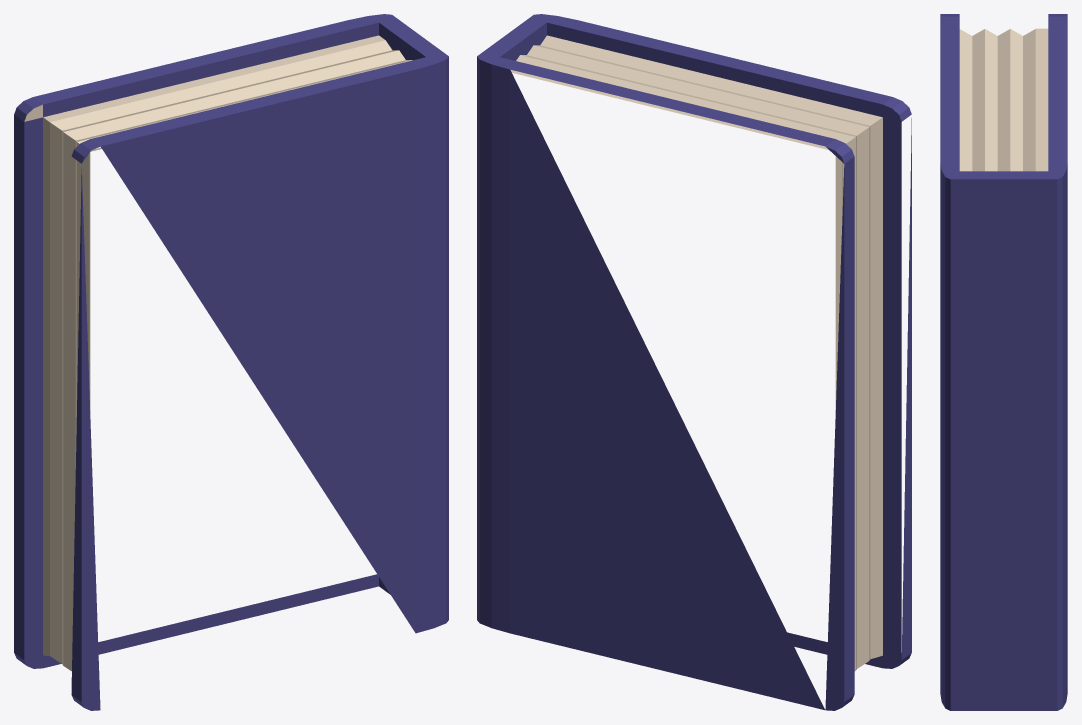
Rendered from Book Blue.glb.
3 renders of one model, left to right at view 1: azimuth 30°, elevation 25°; view 2: azimuth 150°, elevation 25°; view 3: azimuth 270°, elevation 25°, orthographic. The views are drawn at different scales.
Parts seen in each view (by area): view 1: book_blue; view 2: book_blue; view 3: book_blue.
Part boxes in pixels (x1,y1,x2,y2): book_blue: (14,14,448,710); book_blue: (477,14,911,710); book_blue: (940,14,1067,710).
Size of the model in its own units: 0.2716 by 0.3928 by 0.0853.
